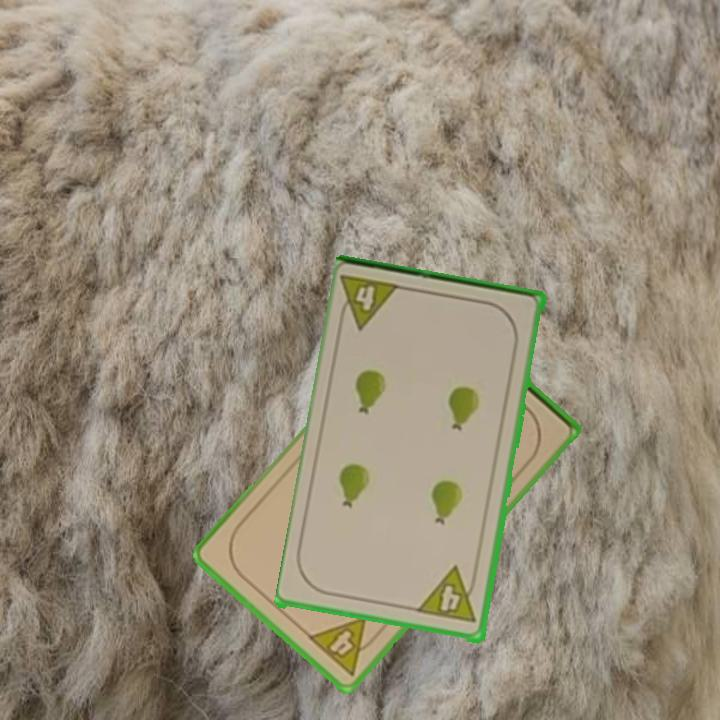4p: (304, 613, 385, 679), (334, 271, 406, 334), (415, 564, 481, 627)
